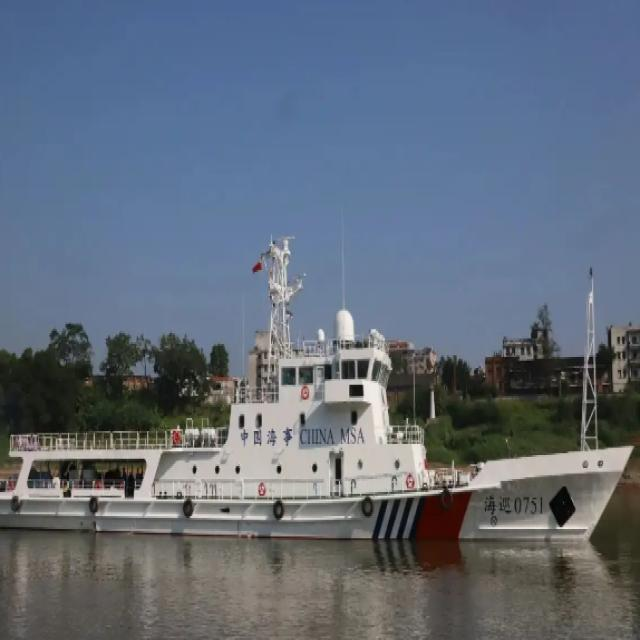navalvessels: (0, 240, 633, 553)
